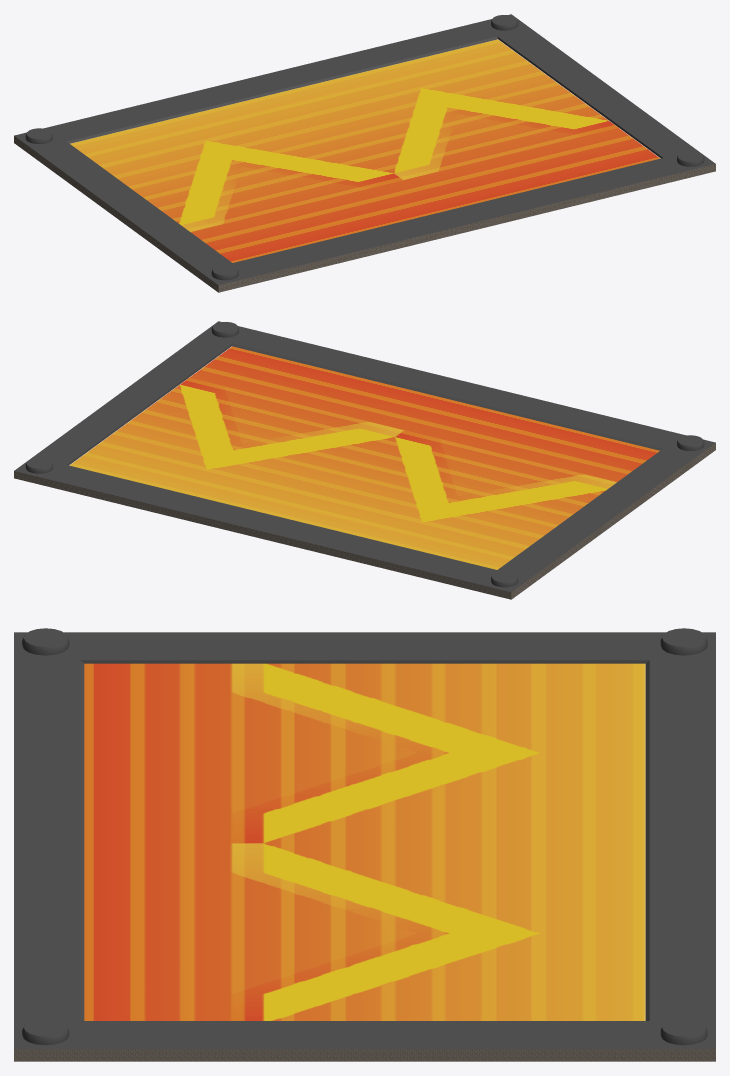
Rendered from 加速器.fbx.
The picture shows the model from 3 angles, top to bottom: view 1: azimuth 30°, elevation 25°; view 2: azimuth 150°, elevation 25°; view 3: azimuth 270°, elevation 25°; orthographic projection. The views are drawn at different scales.
Parts seen in each view (by area): view 1: 本體; view 2: 本體; view 3: 本體, 螺絲3, 螺絲4, 螺絲1, 螺絲2.
Part boxes in pixels (x1,y1,x2,y2): 本體: (14, 14, 715, 292); 本體: (14, 321, 715, 599); 本體: (14, 632, 715, 1061); 螺絲3: (22, 628, 69, 655); 螺絲4: (660, 628, 707, 655); 螺絲1: (22, 1018, 69, 1045); 螺絲2: (660, 1018, 707, 1045).
Bounding box in the file's own units: 8.34 × 0.195 × 5.94.
3 materials, 2 textured.
